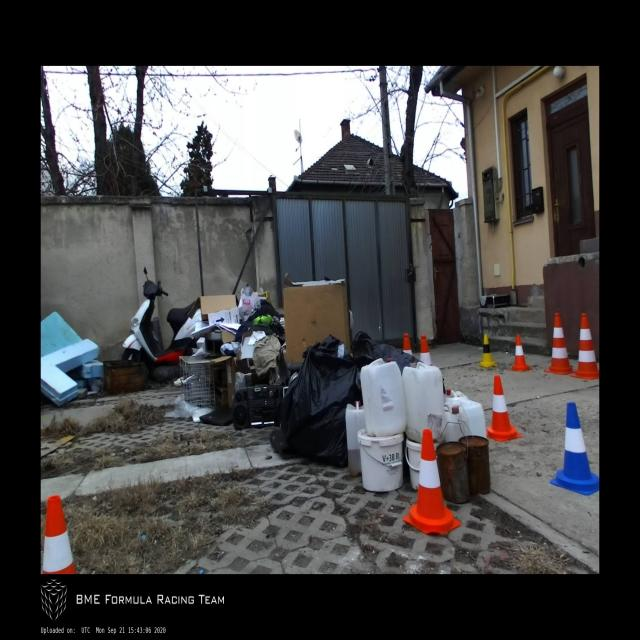blue_cone: (549, 402, 599, 495)
large_orange_cone: (544, 312, 577, 374), (570, 314, 599, 379), (421, 335, 432, 365), (403, 334, 414, 357)
orange_cone: (402, 429, 461, 535), (41, 495, 76, 574), (487, 375, 522, 442), (510, 334, 531, 372)
yellow_cone: (479, 333, 497, 368)
